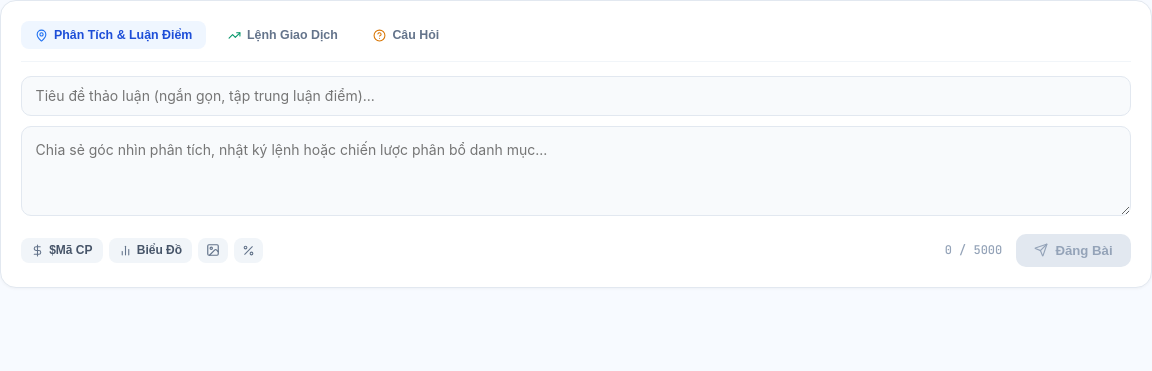
Test: PostComposer Component (AC-004) › displays rate-limit banner on 429 TOO_MANY_REQUESTS
Replace the text in the text box with test id "post-composer-textarea" with "Rapid posting test": (576, 171) [21,126,1131,216]
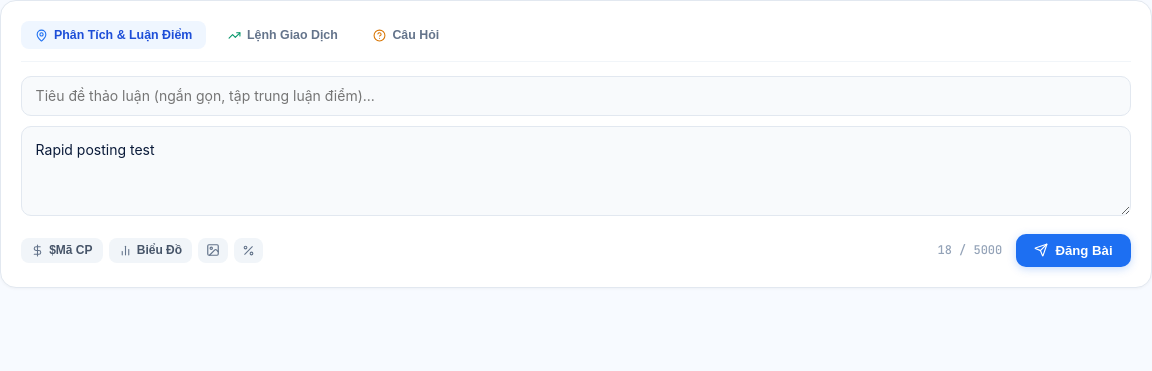
Click the button with test id "post-composer-submit-btn": (1073, 250) [1016,234,1131,267]
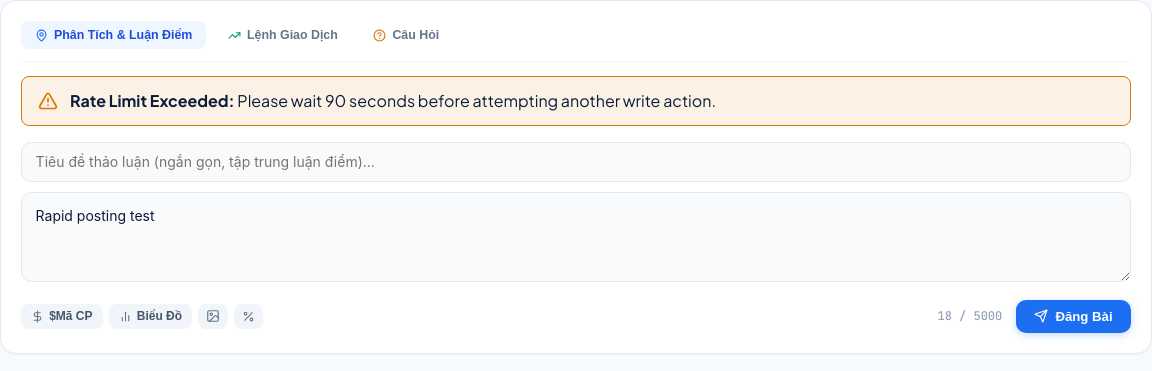
Expected: the message with test id "community-rate-limited-banner" is shown, [21,76,1131,126]
Expected: the text "Please wait 90 seconds" is shown, [70,89,716,113]
